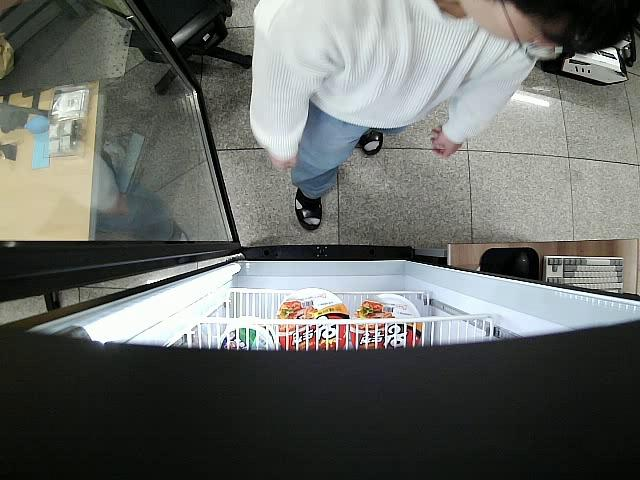00_hand: (428, 122, 464, 160)
